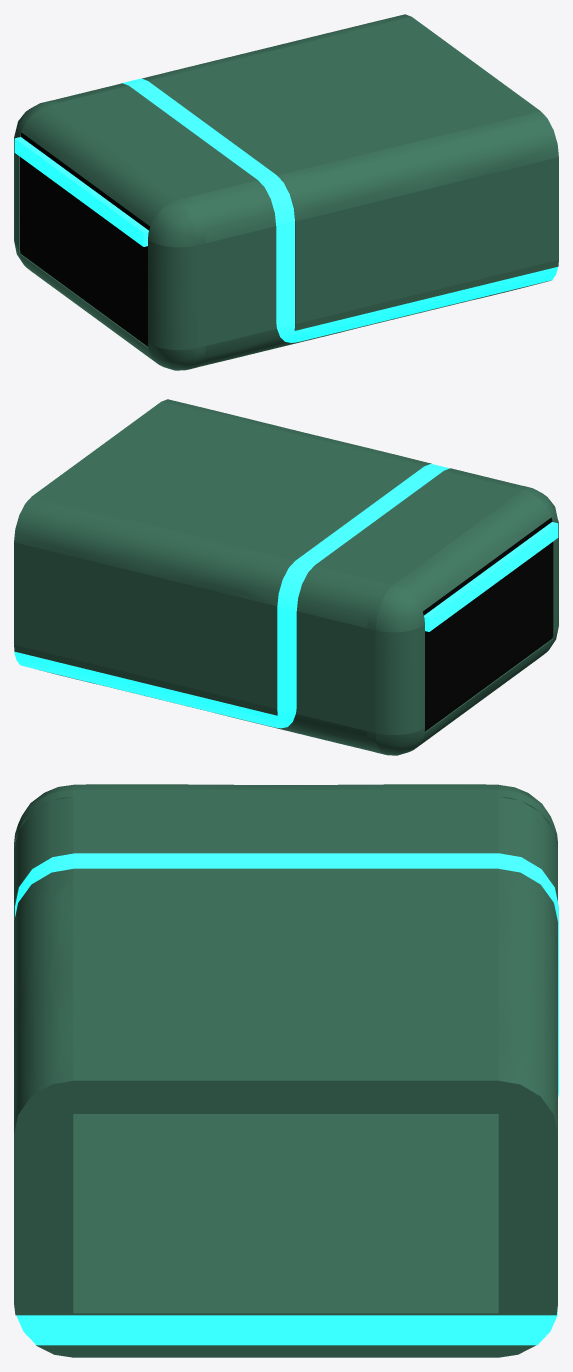
Rendered from 误删源文件.fbx.
The picture shows the model from 3 angles, top to bottom: view 1: azimuth 30°, elevation 25°; view 2: azimuth 150°, elevation 25°; view 3: azimuth 270°, elevation 25°; orthographic projection. The views are drawn at different scales.
Visible parts, largest first — view 1: 物件_17.001, 物件_16.001, 物件_14.001, 物件_18.001, 物件_3.001, 物件_15.001; view 2: 物件_17.001, 物件_16.001, 物件_14.001, 物件_18.001, 物件_3.001, 物件_15.001; view 3: 物件_17.001, 物件_16.001, 物件_3.001, 物件_14.001.
Boxes of the visible parts, box(x1,y1,x2,y2) form: 物件_17.001: box(142, 14, 558, 330); 物件_16.001: box(53, 83, 551, 366); 物件_14.001: box(14, 100, 205, 370); 物件_18.001: box(20, 132, 149, 346); 物件_3.001: box(122, 78, 557, 342); 物件_15.001: box(14, 137, 148, 246); 物件_17.001: box(14, 399, 431, 715); 物件_16.001: box(39, 468, 519, 751); 物件_14.001: box(367, 485, 558, 755); 物件_18.001: box(423, 517, 552, 731); 物件_3.001: box(14, 464, 449, 728); 物件_15.001: box(424, 522, 558, 631); 物件_17.001: box(14, 868, 557, 1315); 物件_16.001: box(14, 797, 557, 1357); 物件_3.001: box(15, 853, 558, 1345); 物件_14.001: box(14, 784, 557, 849).
Size of the model in its own units: 34.3 by 13.87 by 24.73.
